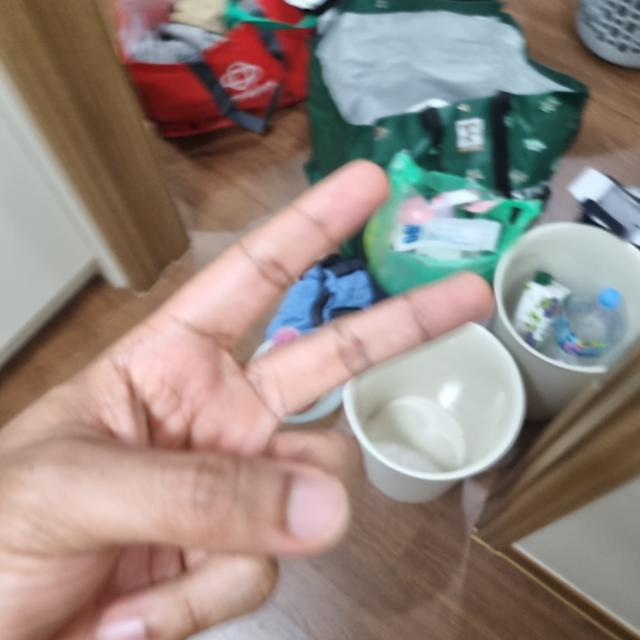Scissors: (0, 158, 494, 640)
